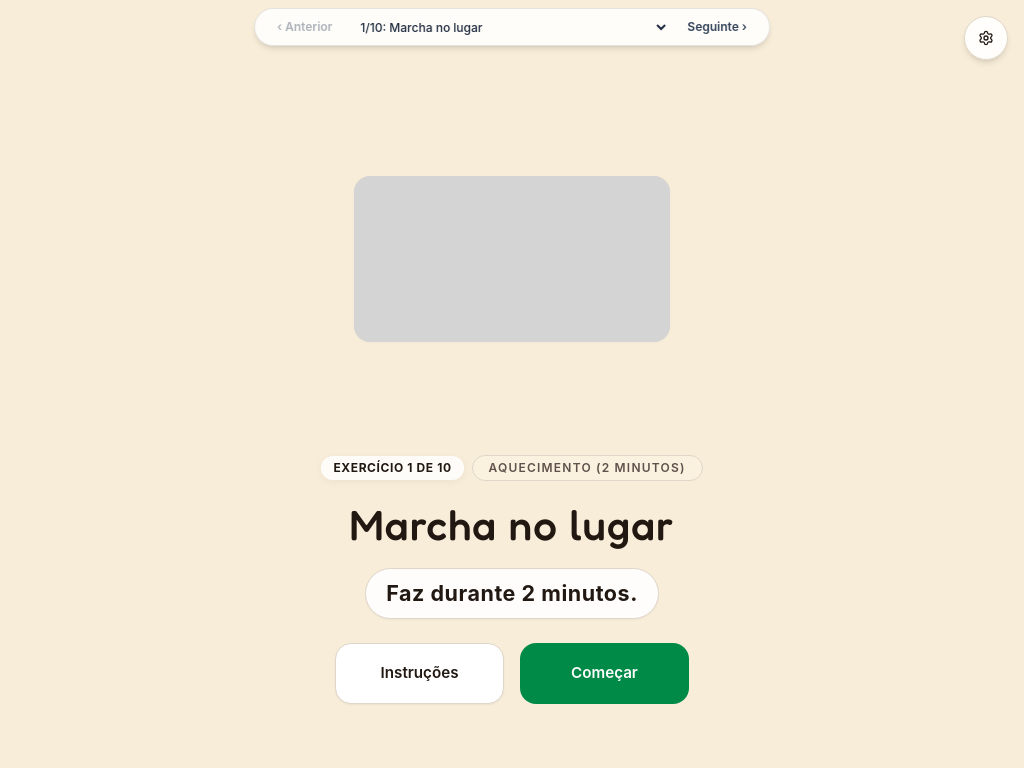
it: exercise programme › opens per-exercise rest settings from an introduction screen
The image size is (1024, 768).
Click the button named "Definições" at (986, 38), box x1=964 y1=16 x2=1008 y2=60
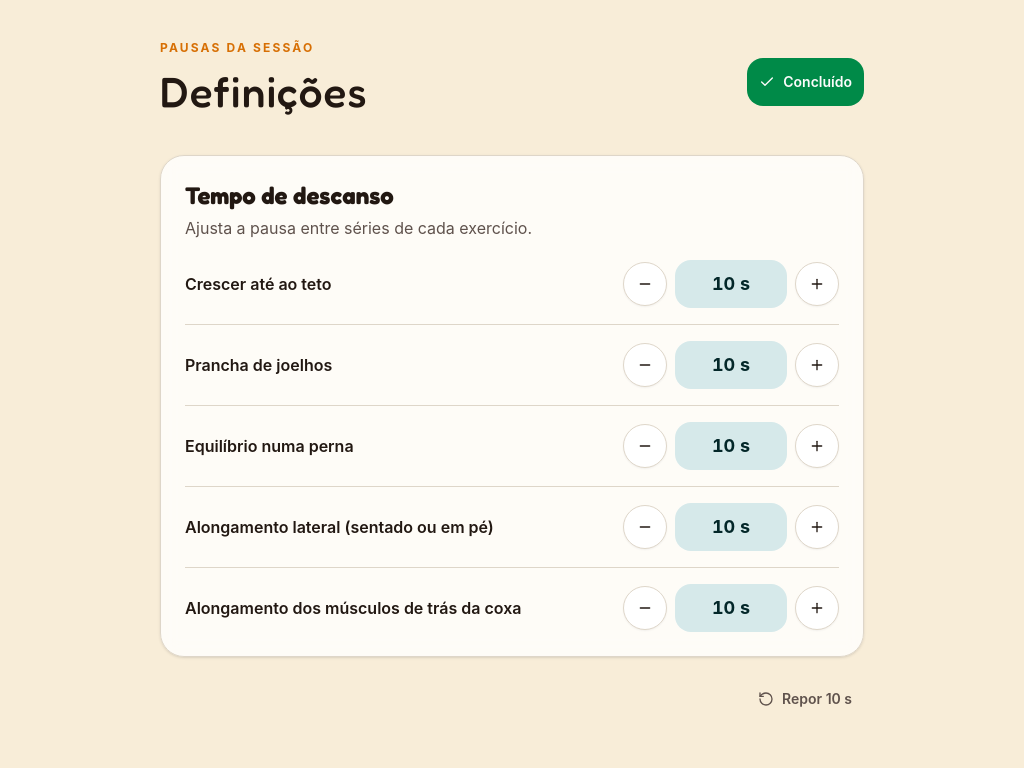
Expected: the heading "Definições" is shown, x1=160 y1=60 x2=368 y2=123
Expected: the element "Crescer até ao teto" is shown, x1=185 y1=260 x2=839 y2=325
Expected: the heading "Marcha no lugar" is gone
Click the button named "Diminuir descanso de Crescer até ao teto" at (645, 284), box x1=623 y1=262 x2=667 y2=306
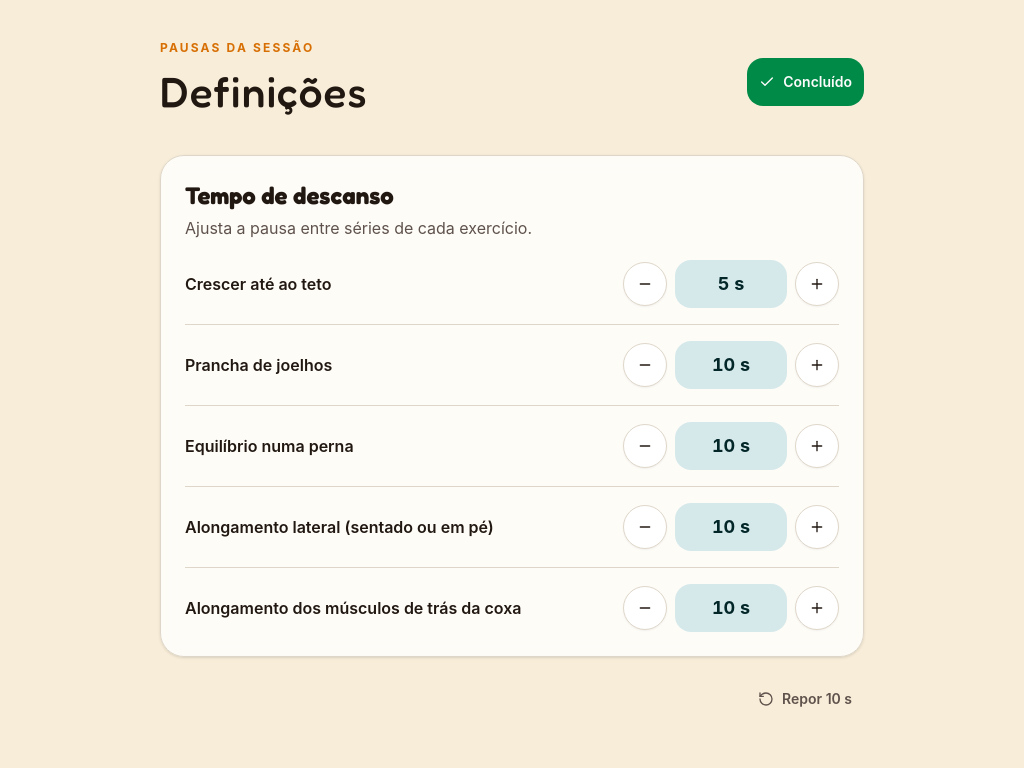
Click the button named "Diminuir descanso de Crescer até ao teto" at (645, 284), box x1=623 y1=262 x2=667 y2=306
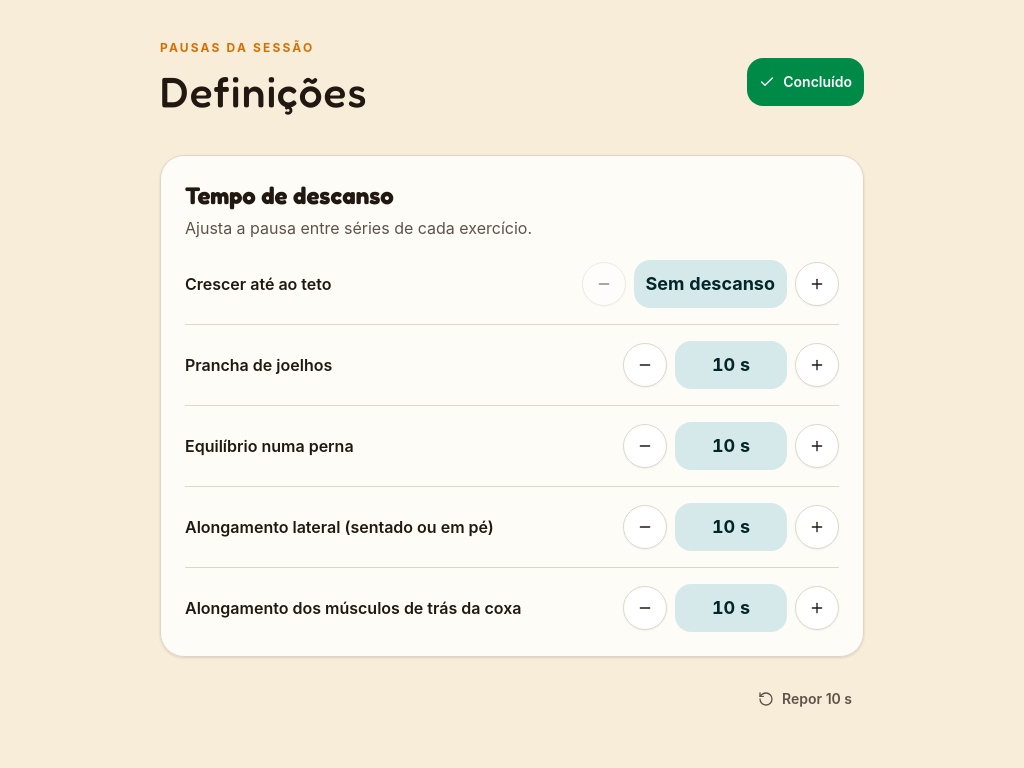
Expected: the text "Sem descanso" is shown, x1=634 y1=260 x2=787 y2=308
Click the button "Concluído" at (806, 82), box x1=747 y1=58 x2=864 y2=106
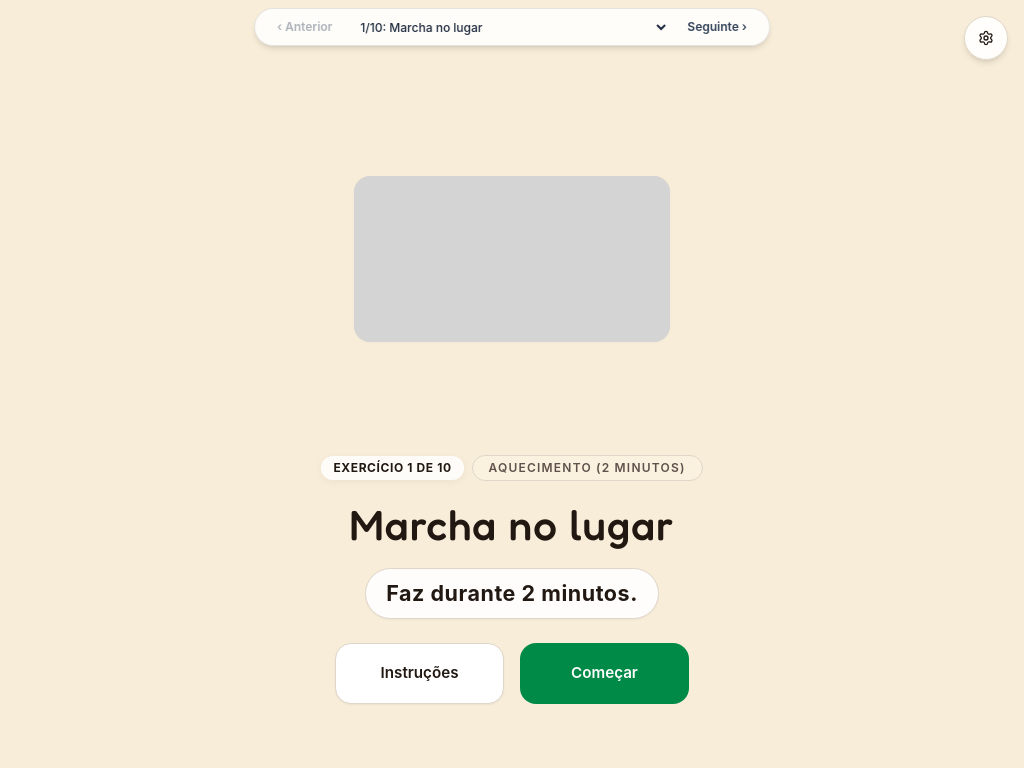
Expected: the heading "Marcha no lugar" is shown, x1=349 y1=493 x2=675 y2=556
Click the button "Começar" at (604, 673), box x1=520 y1=643 x2=689 y2=704
Wait 124600 ms
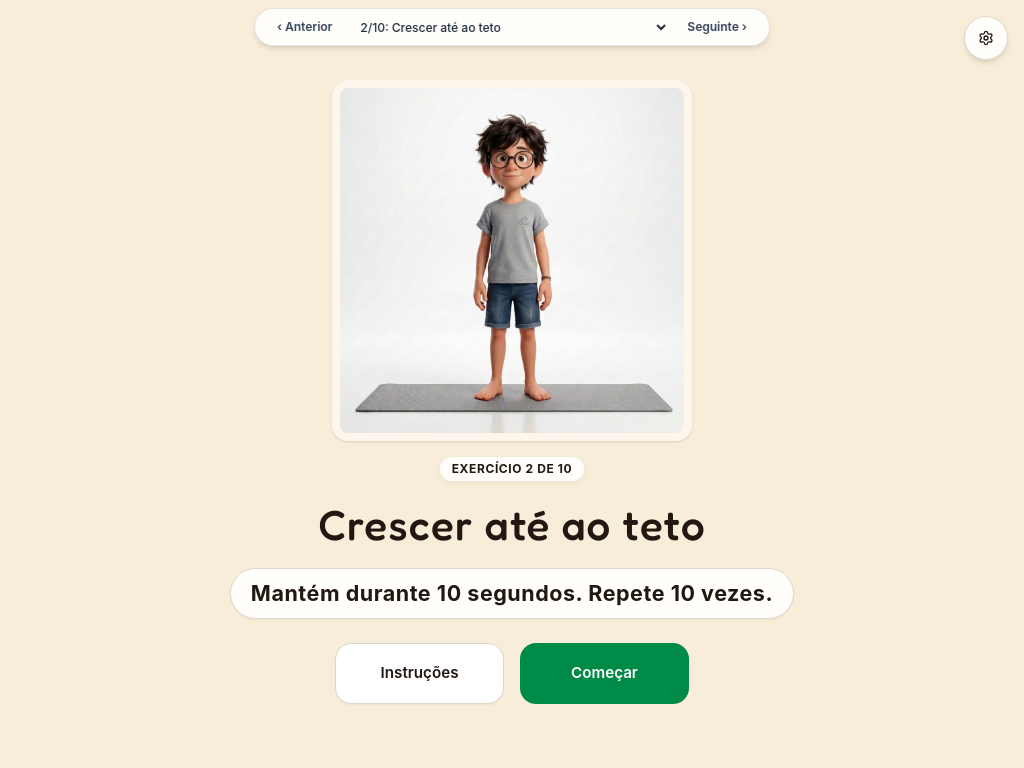
Click the button "Começar" at (604, 673), box x1=520 y1=643 x2=689 y2=704
Wait 14600 ms
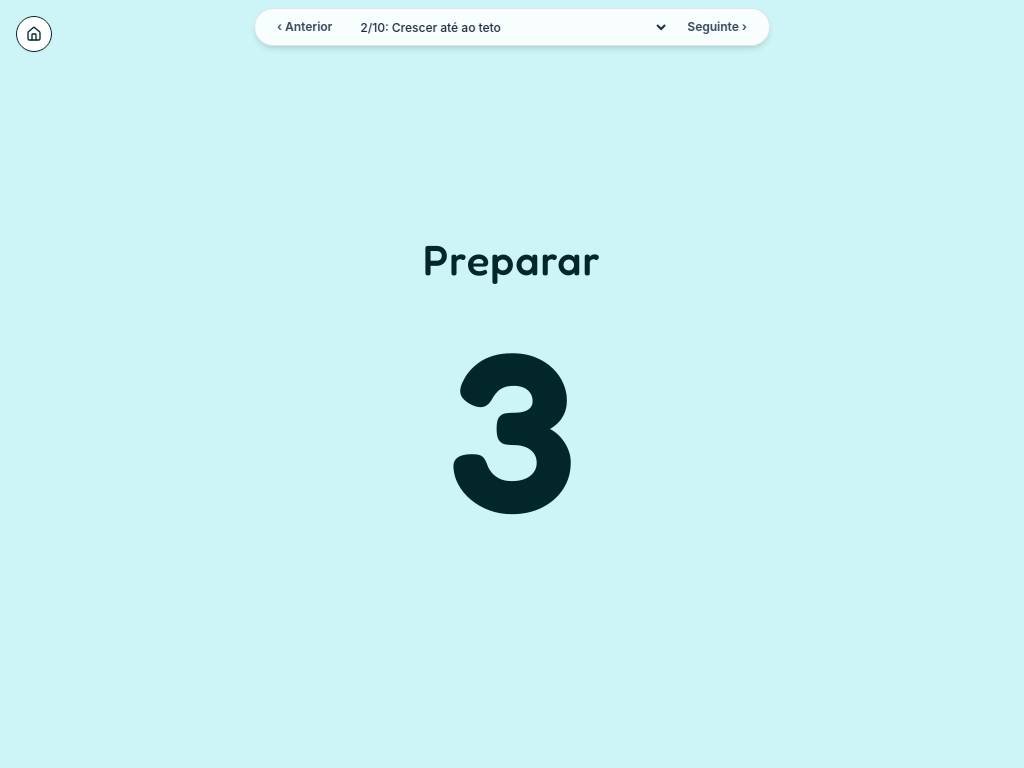
Expected: the heading "Preparar" is shown, x1=423 y1=228 x2=601 y2=292
